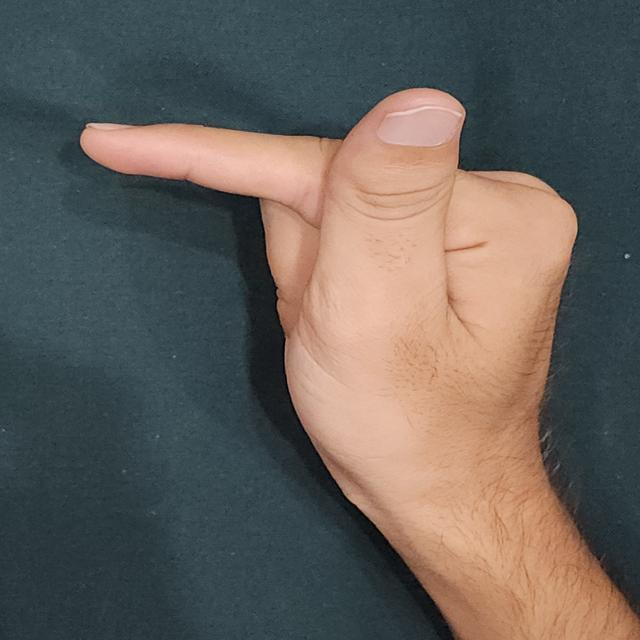ڑ: (75, 81, 588, 554)
